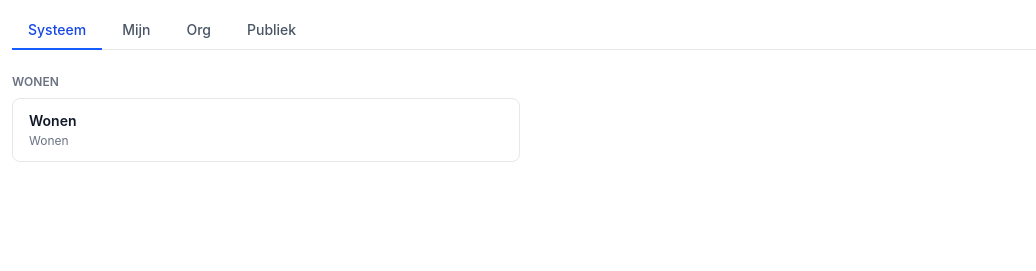
Scenario: <TemplateGalleryStep> › reverts the select and shows an error when the PATCH rejects
The image size is (1036, 271).
Step 1. Click the tab "Mijn" → x=136, y=31, box [106, 12, 166, 50]
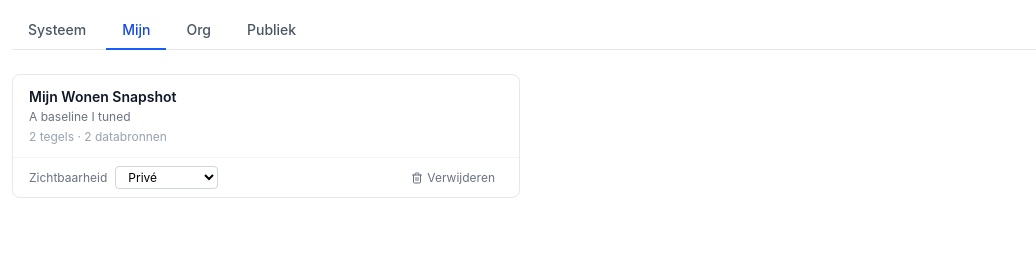
Step 2. Select "Publiek" in the dropdown labelled "Zichtbaarheid" → x=167, y=178, box [115, 166, 218, 189]
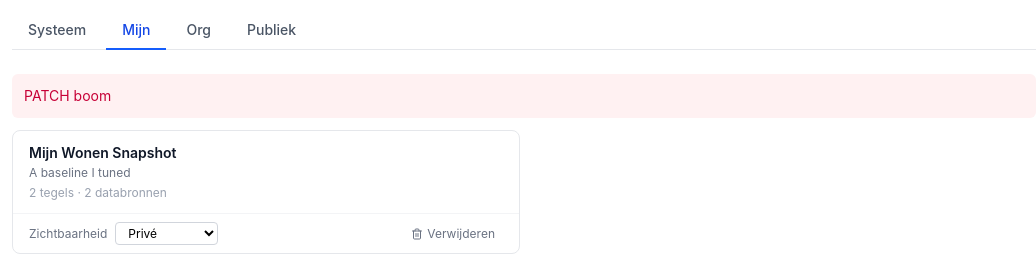
expect the message reads "PATCH boom": met, box [24, 87, 111, 104]
